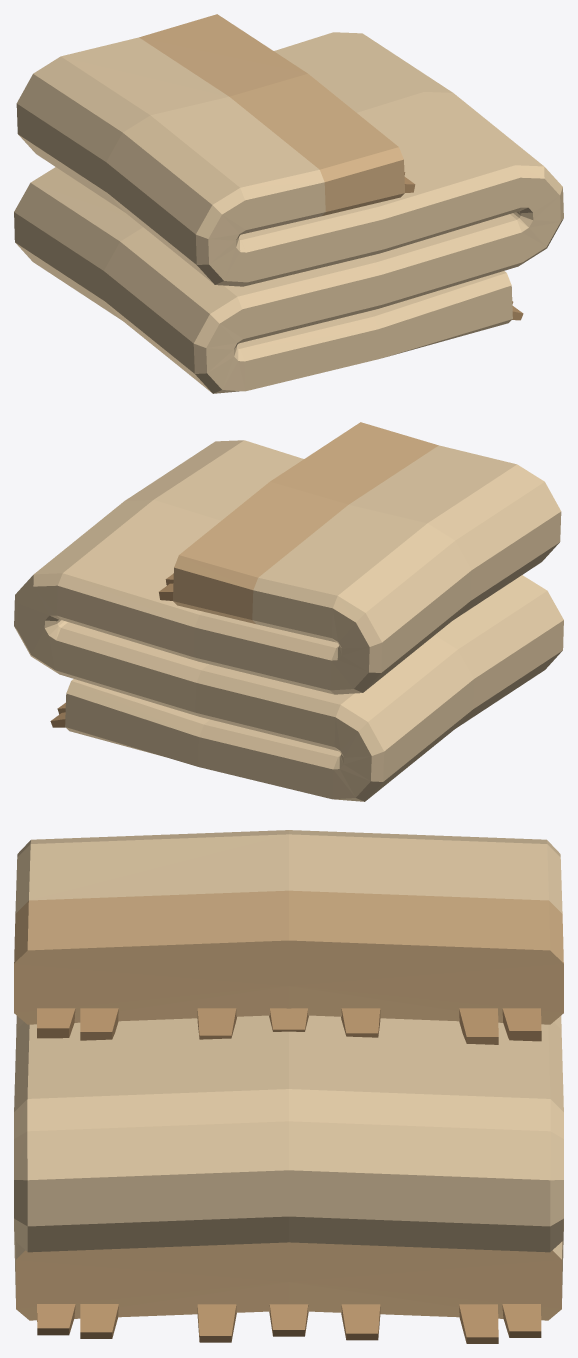
The model's file is Manta.glb.
The picture shows the model from 3 angles, top to bottom: view 1: azimuth 30°, elevation 25°; view 2: azimuth 150°, elevation 25°; view 3: azimuth 270°, elevation 25°; orthographic projection. The views are drawn at different scales.
Visible parts, largest first — view 1: Cobija; view 2: Cobija; view 3: Cobija.
Boxes of the visible parts, x1,y1,x2,y2 form: Cobija: [14, 14, 563, 393]; Cobija: [14, 422, 563, 801]; Cobija: [14, 830, 563, 1343].
Bounding box in the file's own units: 0.4599 × 0.2537 × 0.4123.
